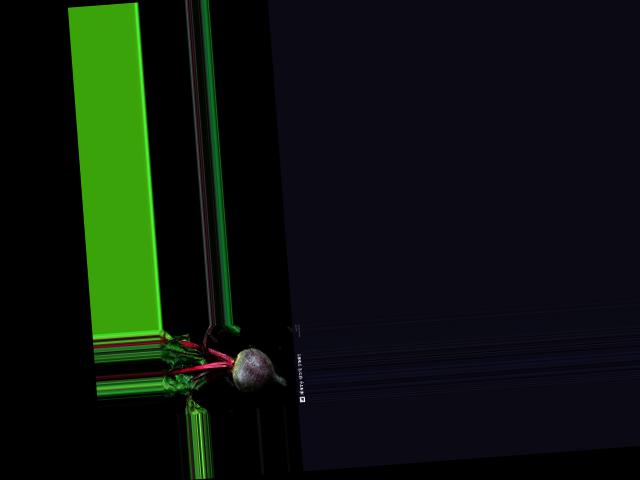beet: (158, 319, 288, 416)
